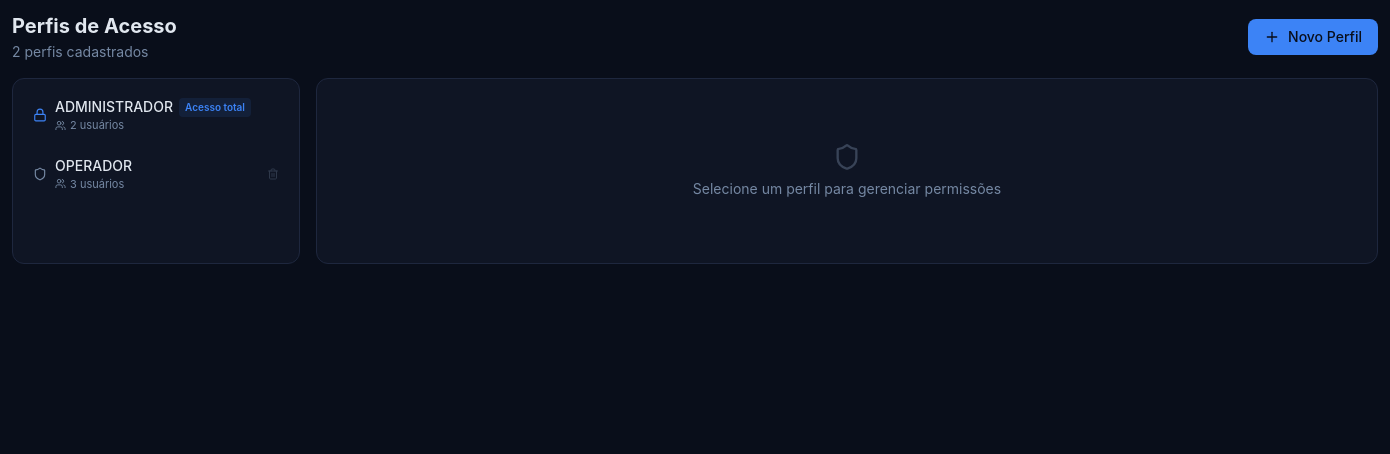
Test: PerfisAcessoPage › perfil de acesso total fica travado
The width and height of the screenshot is (1390, 454).
Click the text "ADMINISTRADOR" at (114, 107), box [55,97,173,117]
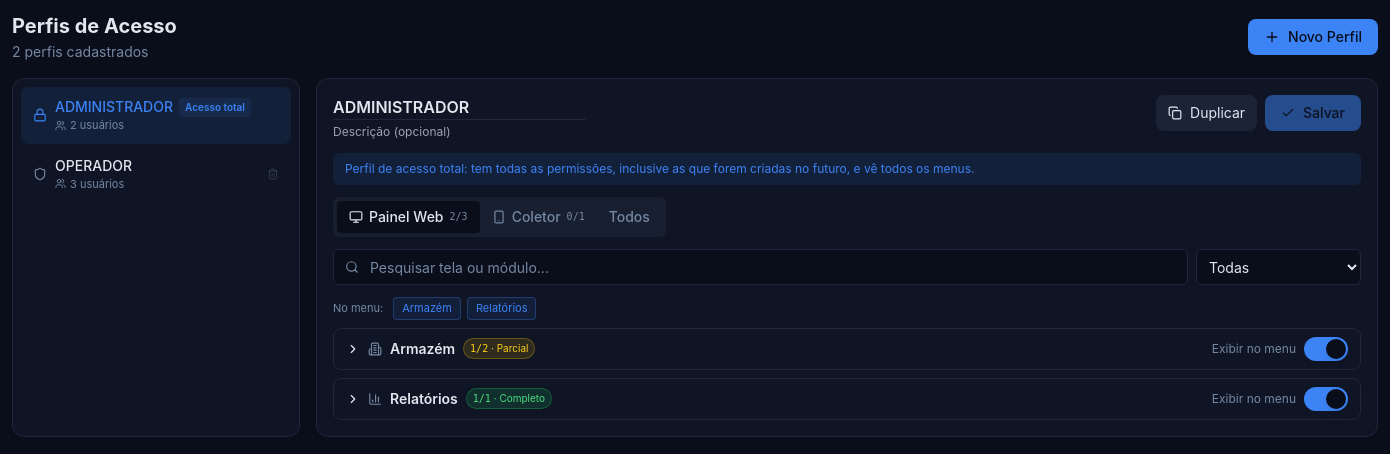
Now the text "Perfil de acesso total" is shown, box [345,161,974,176]
Now the switch named "Exibir o menu Armazém no TopNav" is disabled, box [1304,336,1348,360]
